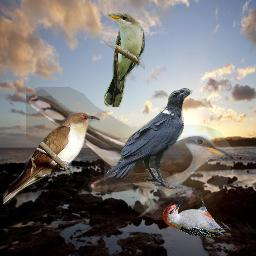Crow: (104, 87, 193, 189)
Cuckoo: (26, 87, 234, 220), (3, 111, 100, 205), (104, 13, 145, 107)
Woodpecker: (163, 196, 231, 237)
